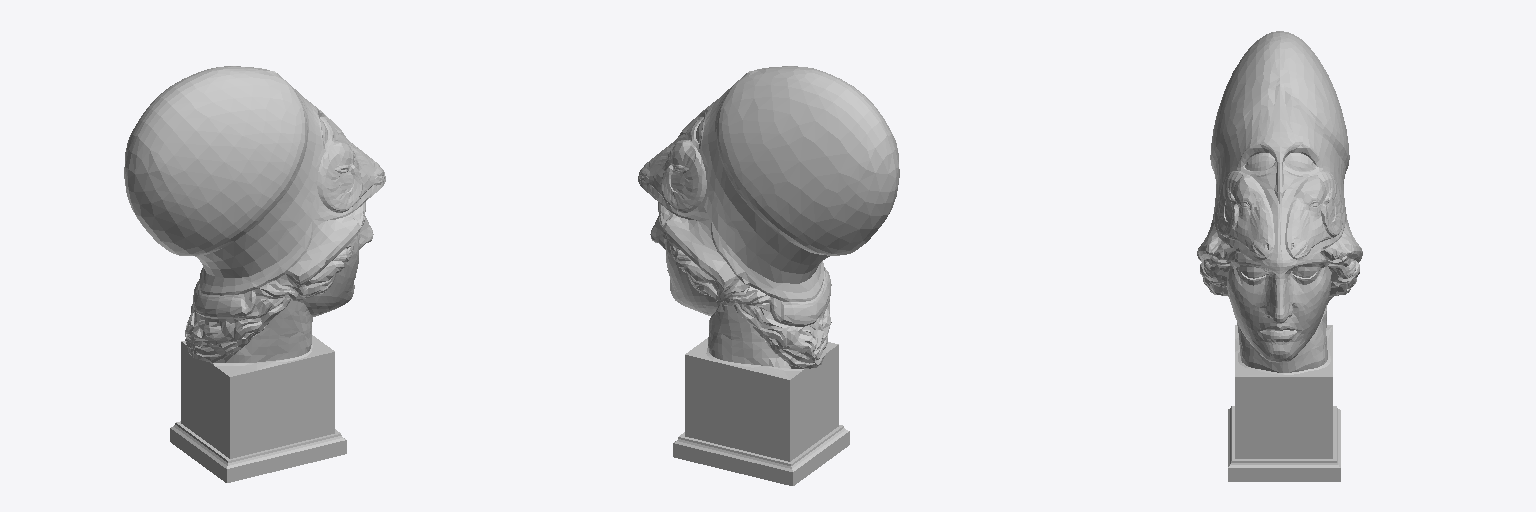
File: ateneal.obj
3 renders of one model, left to right at view 1: azimuth 30°, elevation 25°; view 2: azimuth 150°, elevation 25°; view 3: azimuth 270°, elevation 25°, orthographic.
Parts seen in each view (by area): view 1: default; view 2: default; view 3: default.
Boxes of the visible parts, x1,y1,x2,y2 form: default: [124, 66, 385, 482]; default: [638, 66, 899, 485]; default: [1197, 31, 1362, 481].
Size of the model in its own units: 4156 by 6046 by 2345.